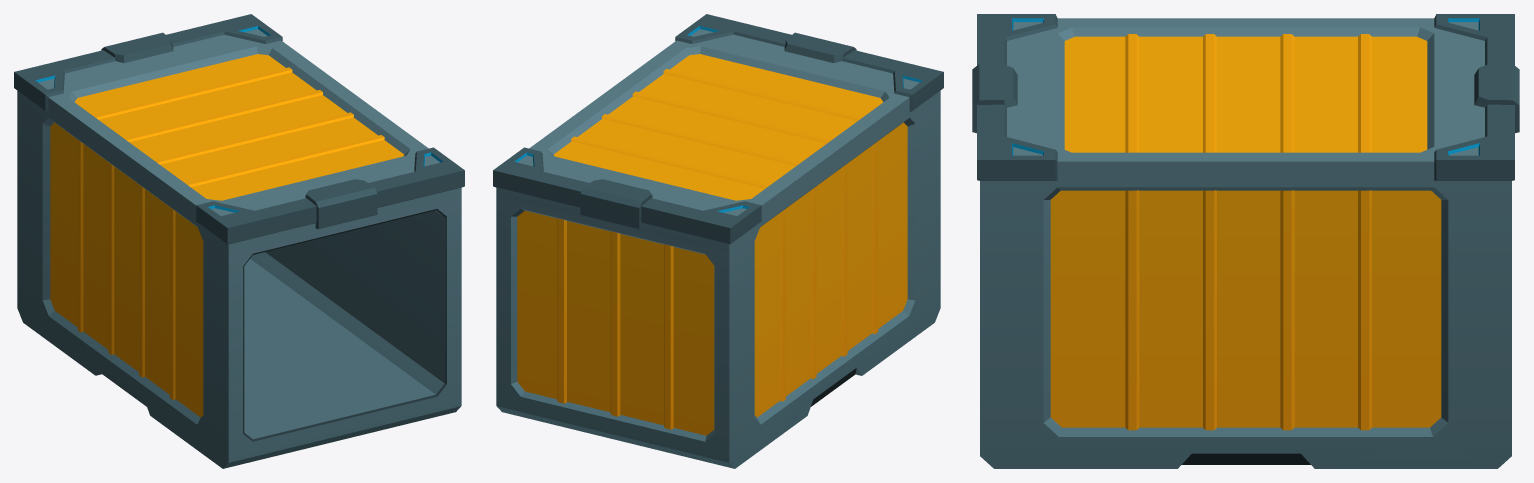
File: Container_type_B_005.fbx
3 views of the same model, side by side, from view 1: azimuth 30°, elevation 25°; view 2: azimuth 150°, elevation 25°; view 3: azimuth 270°, elevation 25° (orthographic). The views are drawn at different scales.
Parts seen in each view (by area): view 1: Container_type_B_005; view 2: Container_type_B_005; view 3: Container_type_B_005.
Boxes of the visible parts, bbox=[...] form: Container_type_B_005: bbox=[14, 14, 464, 468]; Container_type_B_005: bbox=[493, 14, 943, 468]; Container_type_B_005: bbox=[972, 14, 1519, 468].
Bounding box in the file's own units: 244 × 387 × 246.
